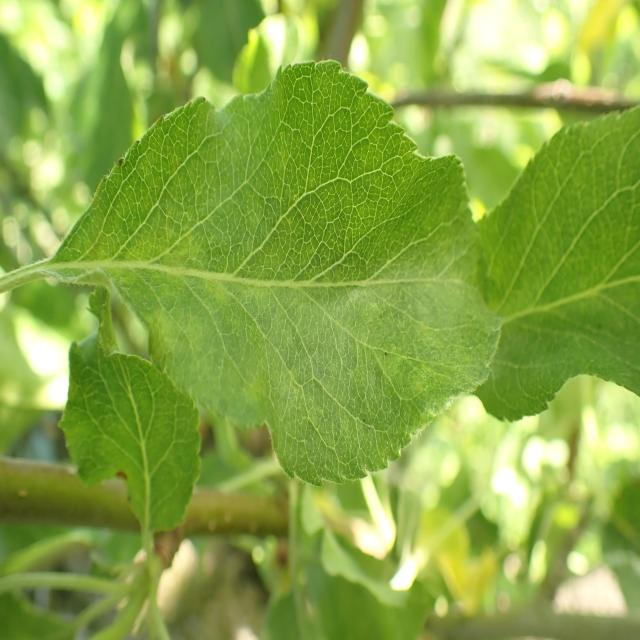scab: (71, 183, 472, 377)
